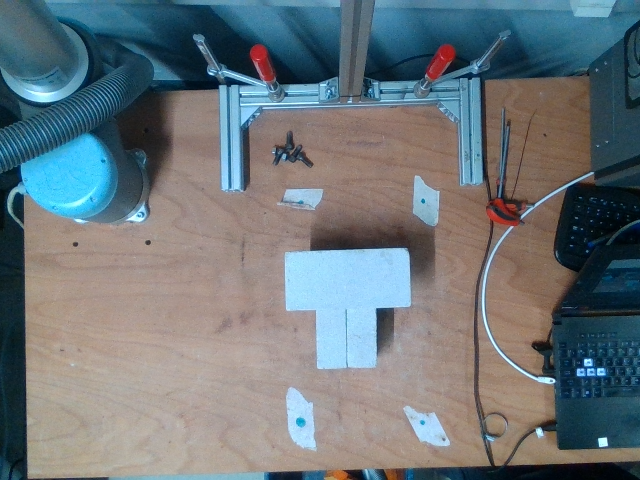brick: (285, 248, 412, 309)
